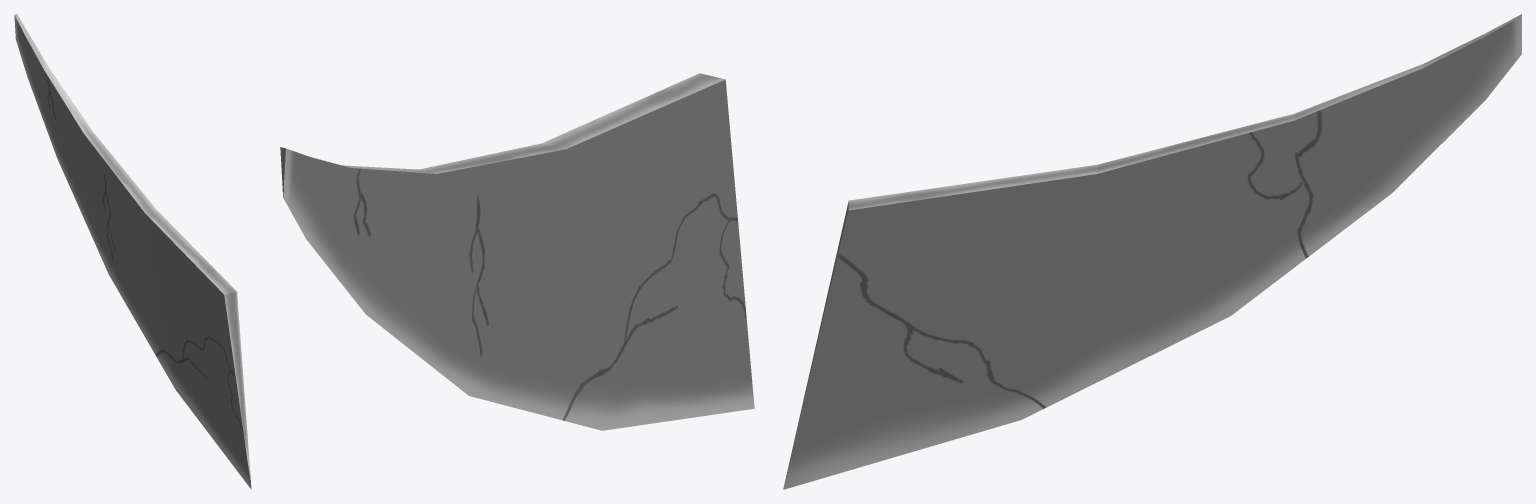
File: Fragment_ostrza.fbx
3 views of the same model, side by side, from view 1: azimuth 30°, elevation 25°; view 2: azimuth 150°, elevation 25°; view 3: azimuth 270°, elevation 25° (orthographic). The views are drawn at different scales.
Visible parts, largest first — view 1: Cube; view 2: Cube; view 3: Cube.
Part boxes in pixels (left/top/right/bottom): Cube: left=14, top=14, right=251, bottom=489; Cube: left=280, top=73, right=754, bottom=430; Cube: left=783, top=14, right=1521, bottom=489.
Size of the model in its own units: 4.46 by 100 by 141.
1 material, 1 textured.
